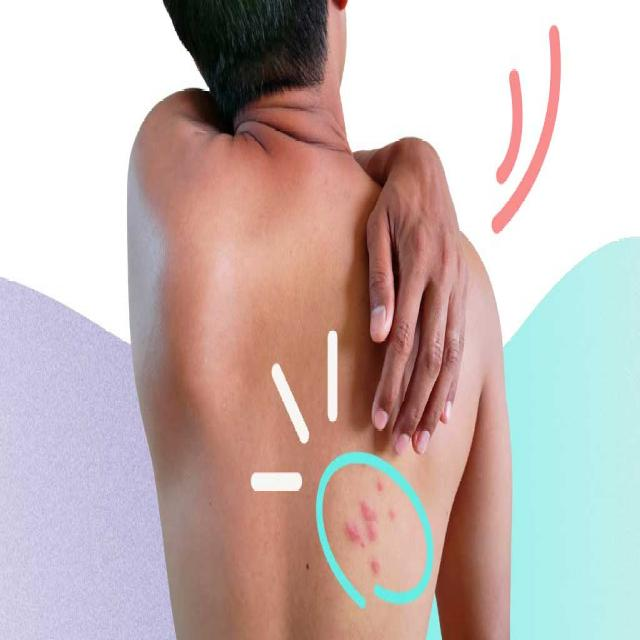herpes zoster: (336, 475, 405, 583)
